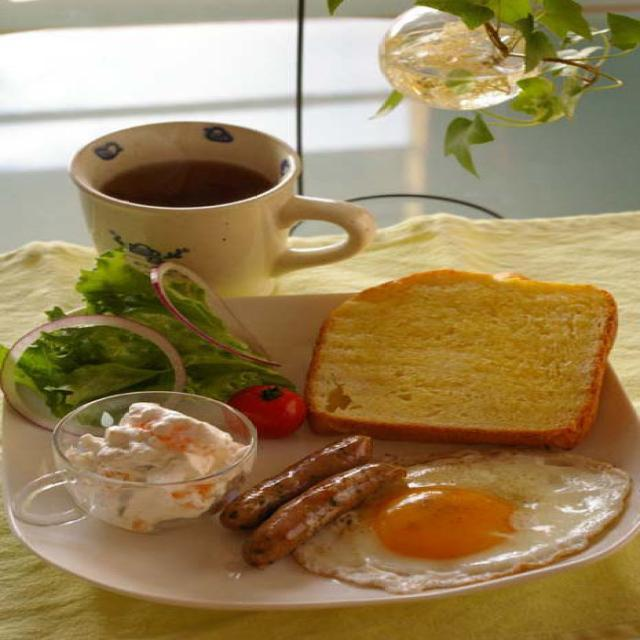Bread: (324, 276, 604, 435)
Egg: (335, 458, 624, 581)
Sausage: (238, 440, 394, 570)
